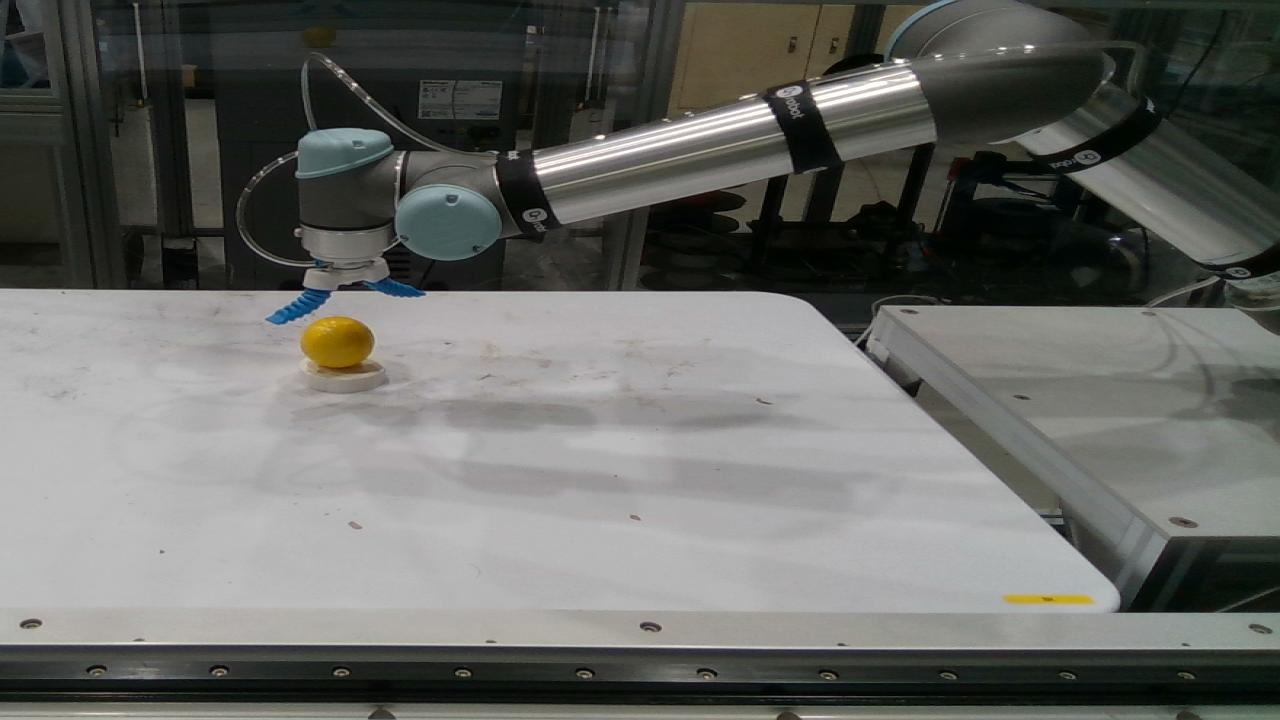UR5: (294, 0, 1279, 338)
gripper_left: (364, 277, 426, 298)
gripper_right: (265, 287, 333, 325)
target: (299, 350, 387, 393), (301, 316, 375, 367)
